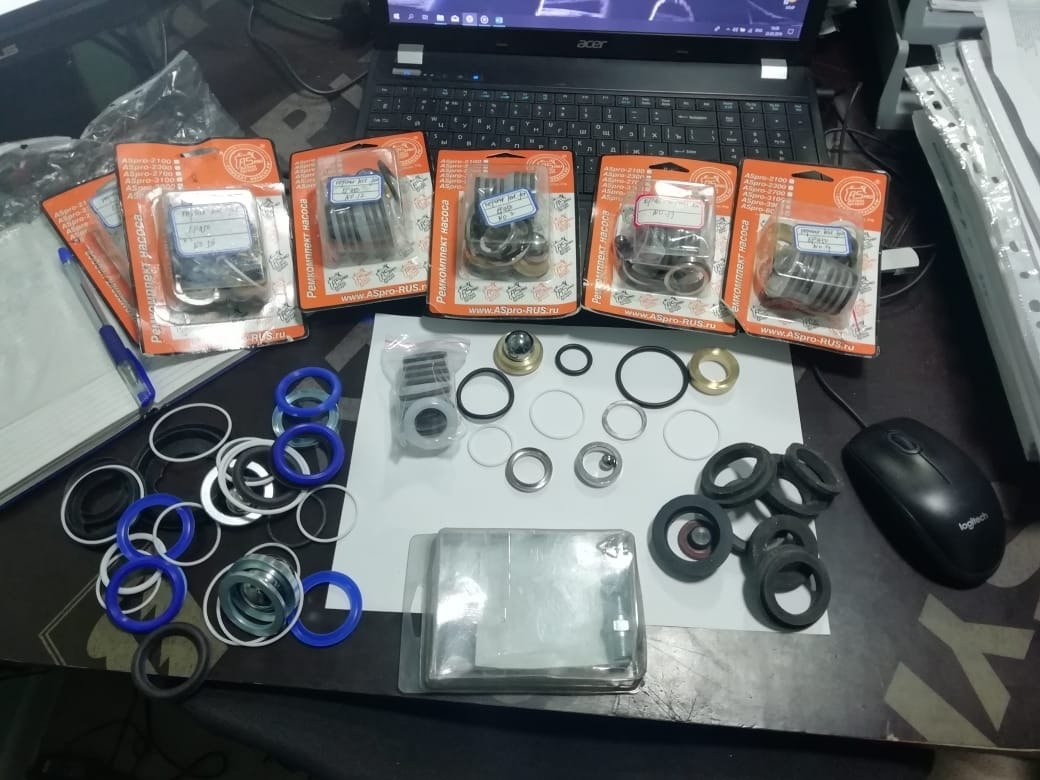laptop: (353, 0, 832, 287)
